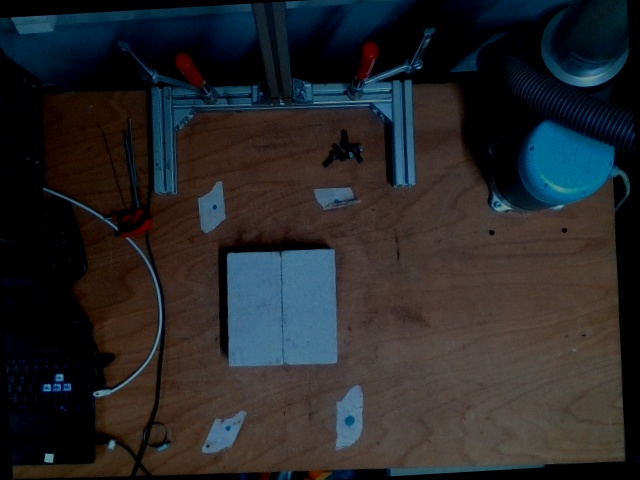brick: (281, 251, 336, 362), (227, 253, 281, 365)
